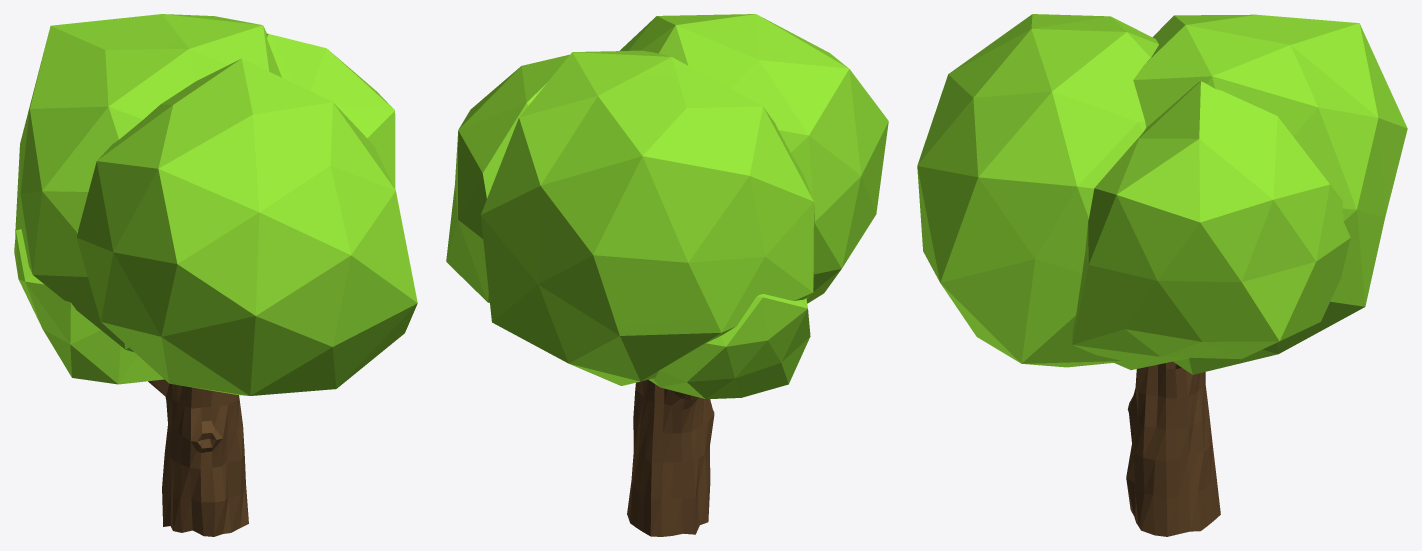
The model's file is Gol_matol_pedh.fbx.
The picture shows the model from 3 angles, left to right: view 1: azimuth 30°, elevation 25°; view 2: azimuth 150°, elevation 25°; view 3: azimuth 270°, elevation 25°; orthographic projection. The views are drawn at different scales.
Parts seen in each view (by area): view 1: Icosphere.004, Cylinder.004; view 2: Icosphere.004, Cylinder.004; view 3: Icosphere.004, Cylinder.004.
Boxes of the visible parts, left/top/right/bottom form: Icosphere.004: left=14, top=14, right=417, bottom=395; Cylinder.004: left=148, top=379, right=248, bottom=536; Icosphere.004: left=446, top=14, right=888, bottom=399; Cylinder.004: left=627, top=379, right=714, bottom=536; Icosphere.004: left=917, top=14, right=1407, bottom=374; Cylinder.004: left=1126, top=361, right=1220, bottom=536.
Size of the model in its own units: 1650 by 2182 by 1957.
